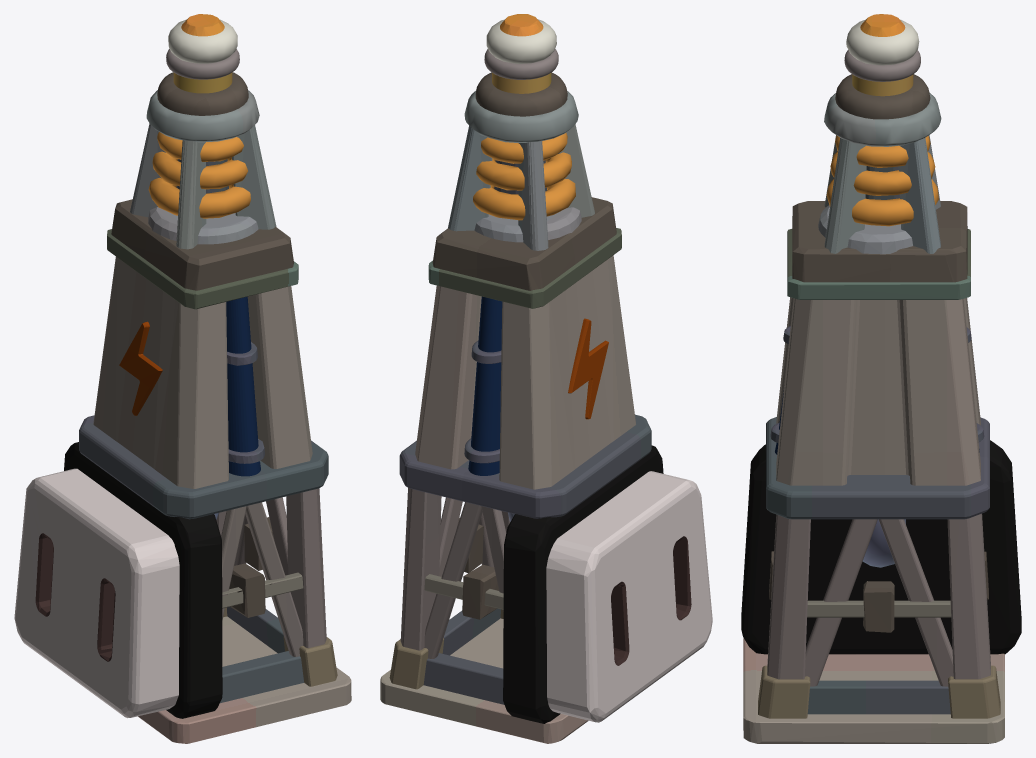
Rendered from dianwangta01.FBX.
3 renders of one model, left to right at view 1: azimuth 30°, elevation 25°; view 2: azimuth 150°, elevation 25°; view 3: azimuth 270°, elevation 25°, orthographic. The views are drawn at different scales.
Visible parts, largest first — view 1: dianta, chazuo; view 2: dianta, chazuo; view 3: dianta.
Part boxes in pixels (x1,y1,x2,y2): dianta: (64, 14, 351, 743); chazuo: (14, 468, 179, 718); dianta: (380, 14, 663, 743); chazuo: (546, 471, 712, 722); dianta: (741, 14, 1021, 743).
Bounding box in the file's own units: 390 × 1109 × 415.
